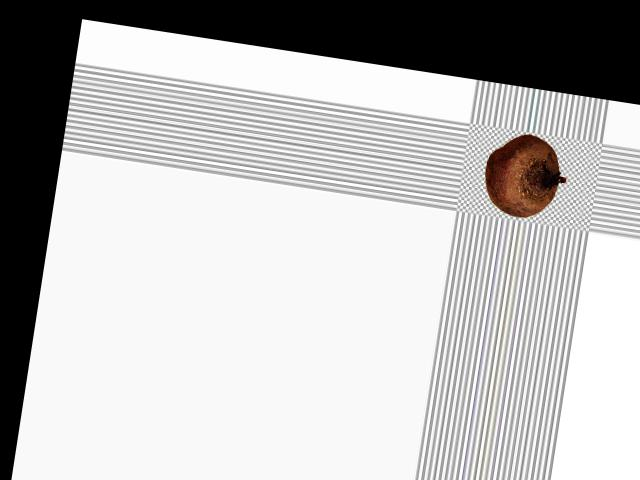beet: (480, 129, 572, 222)
